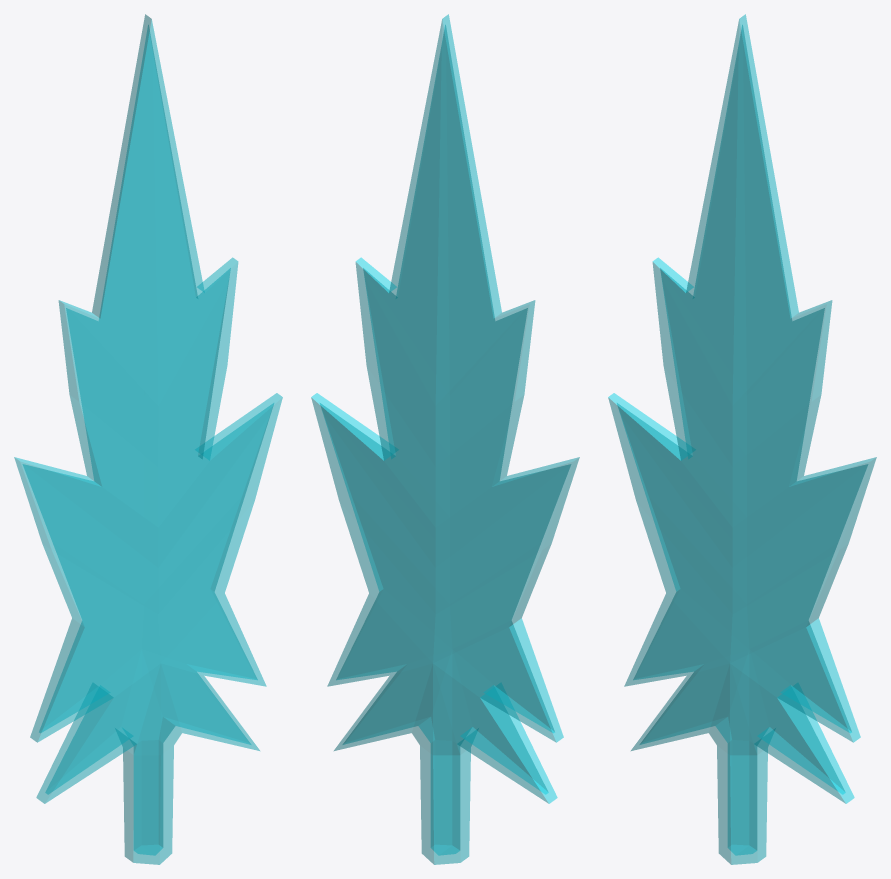
Rendered from crystal_sword.gltf.
3 renders of one model, left to right at view 1: azimuth 30°, elevation 25°; view 2: azimuth 150°, elevation 25°; view 3: azimuth 330°, elevation 25°, orthographic.
Visible parts, largest first — view 1: Plane.002; view 2: Plane.002; view 3: Plane.002.
Part boxes in pixels (left/top/right/bottom): Plane.002: left=14, top=14, right=282, bottom=864; Plane.002: left=311, top=14, right=579, bottom=864; Plane.002: left=608, top=14, right=876, bottom=864.
Bounding box in the file's own units: 0.3145 × 0.9605 × 0.0517.
